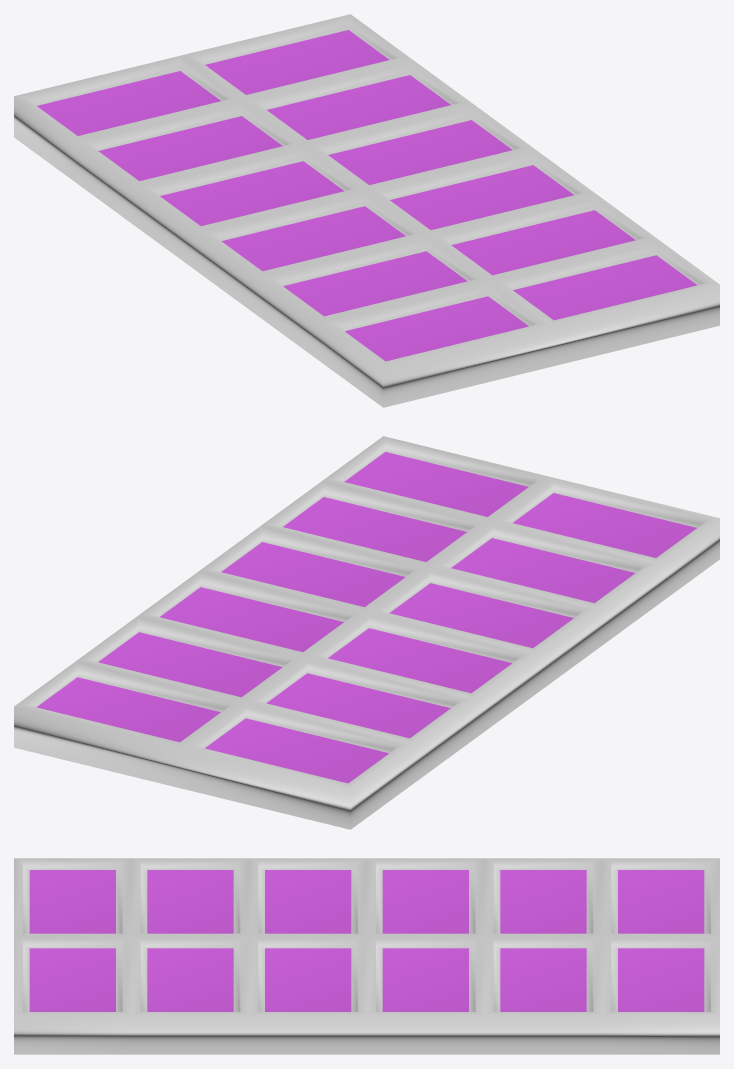
File: window wide.fbx
3 renders of one model, top to bottom at view 1: azimuth 30°, elevation 25°; view 2: azimuth 150°, elevation 25°; view 3: azimuth 270°, elevation 25°, orthographic. The views are drawn at different scales.
Parts seen in each view (by area): view 1: Cube.254; view 2: Cube.254; view 3: Cube.254.
Boxes of the visible parts, box(x1,y1,x2,y2) form: Cube.254: box(14, 14, 719, 407); Cube.254: box(14, 436, 719, 829); Cube.254: box(14, 858, 719, 1054).
Size of the model in its own units: 714 by 83.46 by 1357.
